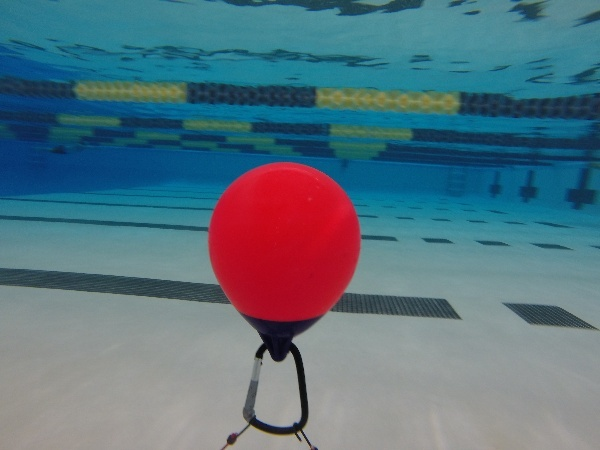buoy_red: (199, 159, 363, 359)
